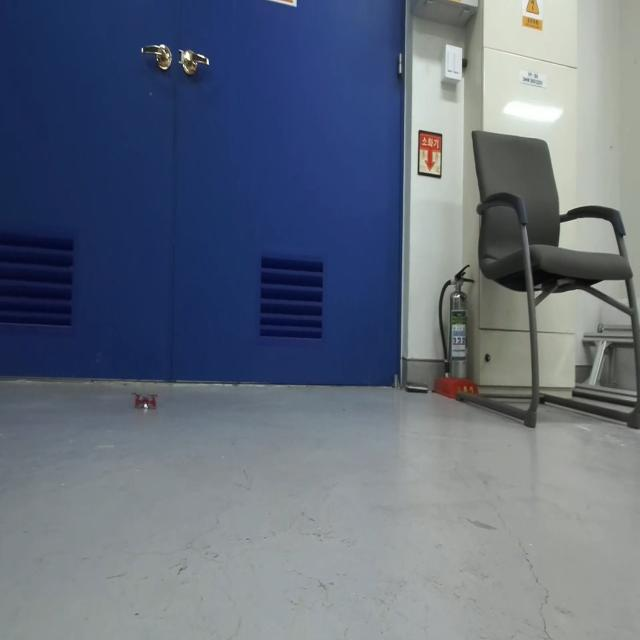crazyflie: (130, 385, 158, 416)
